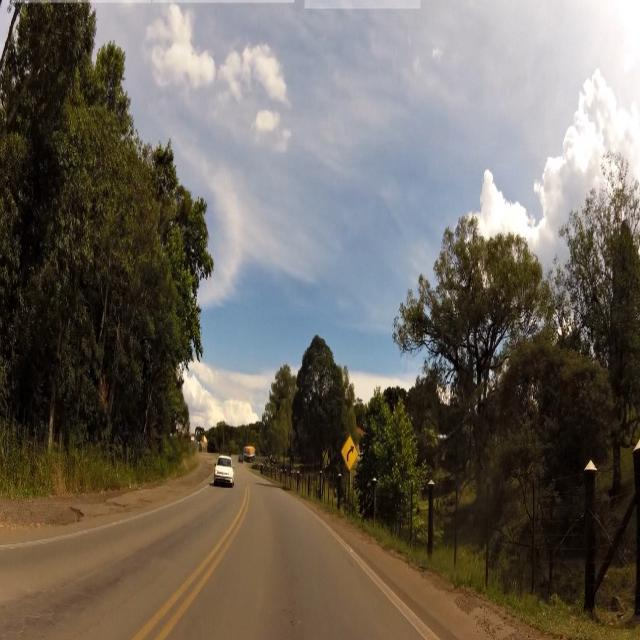A-2b: (340, 431, 359, 471)
